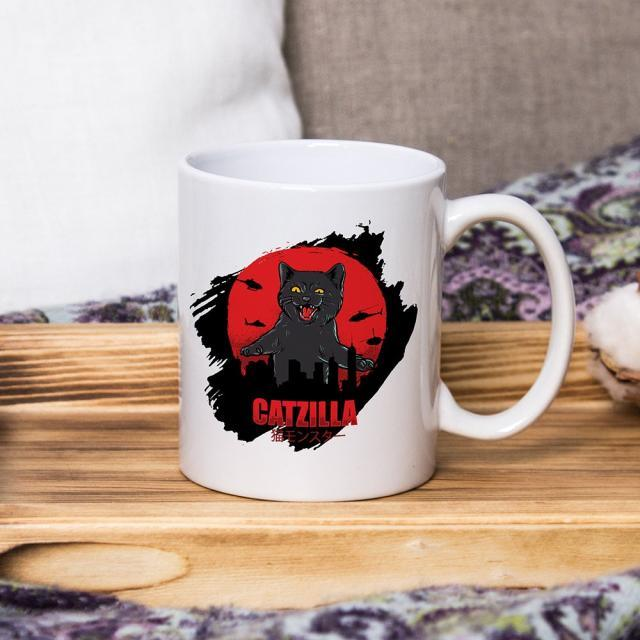Coffee Mug: (175, 137, 578, 505)
